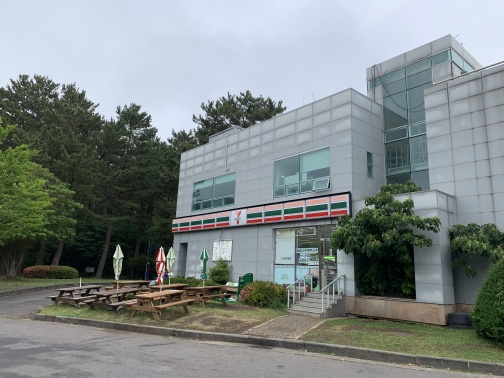Global House: (177, 44, 502, 324)
